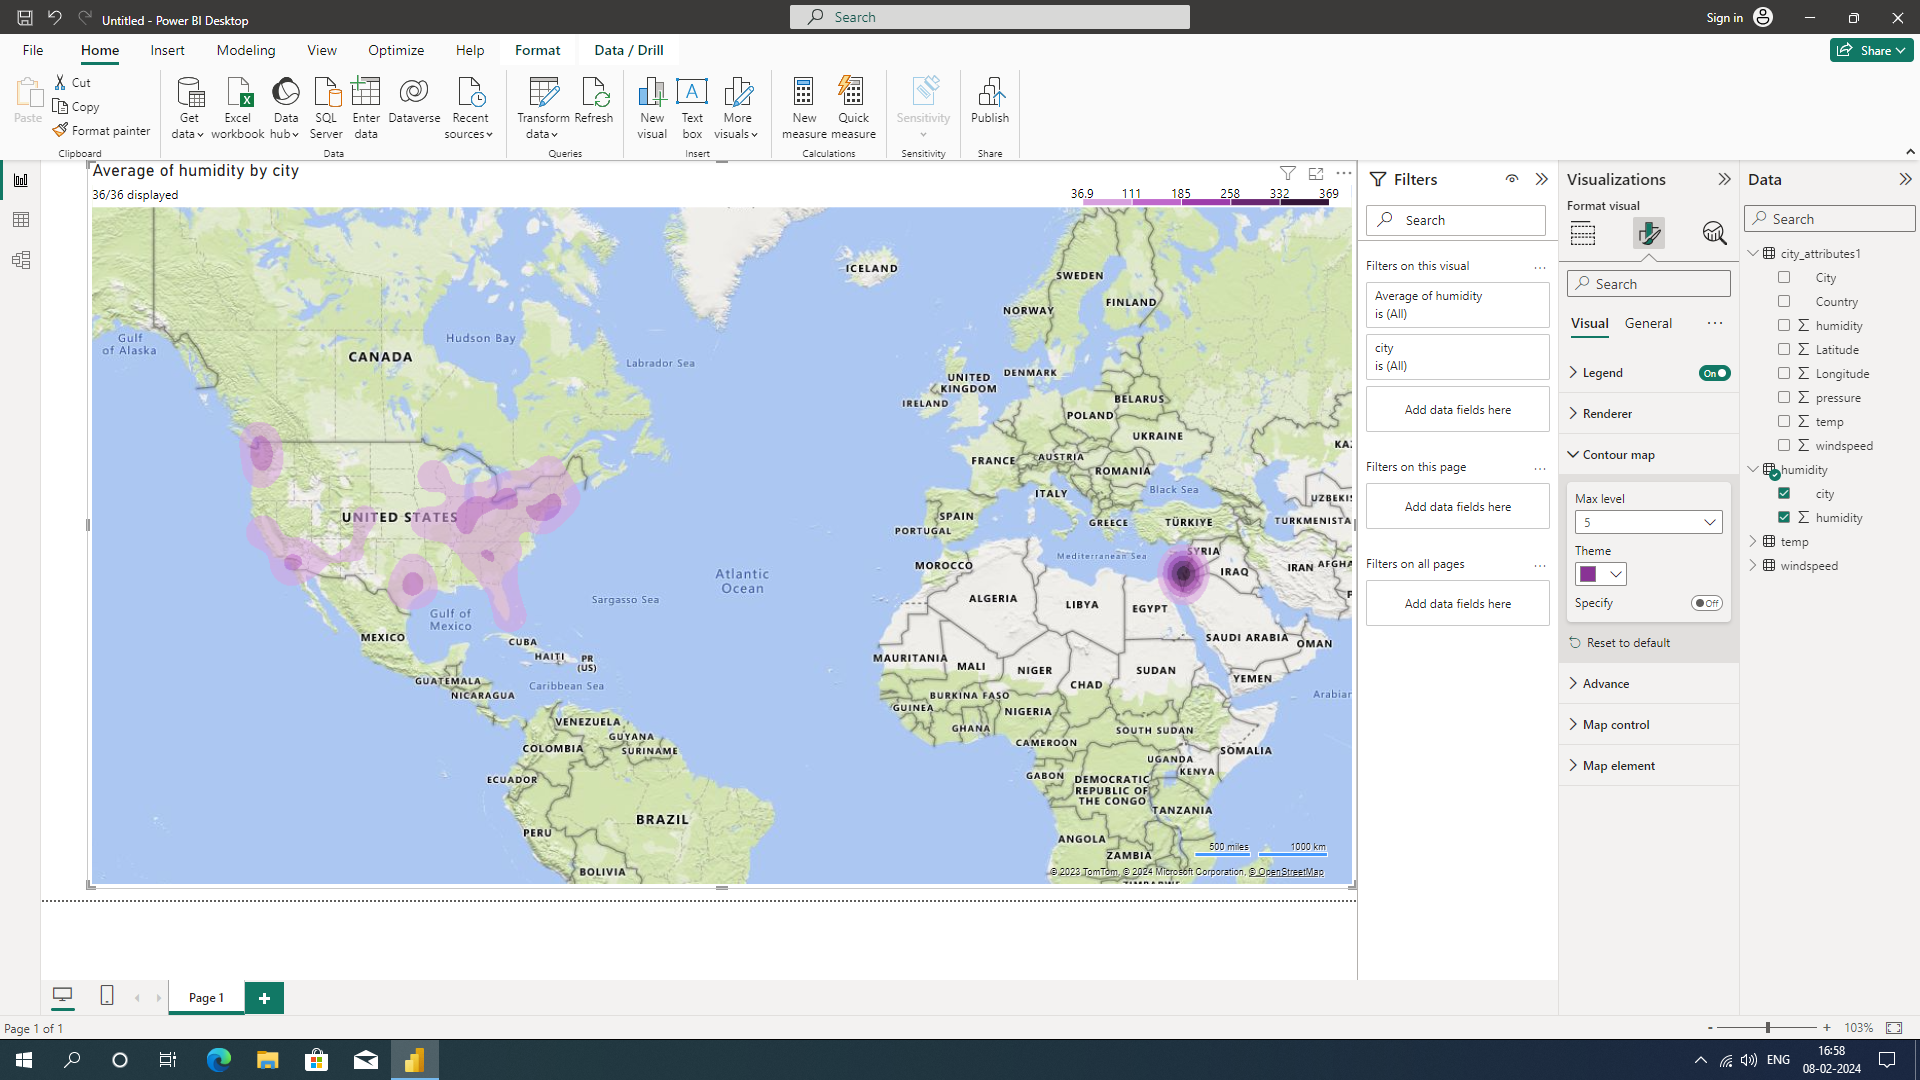

Layout of this report page (visuals, bound fields, positions):
{"tool":"powerbi","page":{"name":"humidity heatmap","canvas":[1280,720],"ordinal":0},"visuals":[{"type":"heatmapF244EA9EE1F34E828A80CF19B41976F8","title":"Humidity by city","fields":{"location":["humidity.city"],"value":["Avg(humidity.humidity)"]},"box":[44.7,0,1235.3,709.1],"z":1}]}

Visuals, with their boxes on the page's 1280x720 design canvas (x1, y1, x2, y2). These are canvas units, not pixel positions in the 1920x1080 screenshot, which may show the page scaled, cropped or inside an application window:
"Humidity by city" heatmapF244EA9EE1F34E828A80CF19B41976F8: {"x1": 45, "y1": 0, "x2": 1280, "y2": 709}
